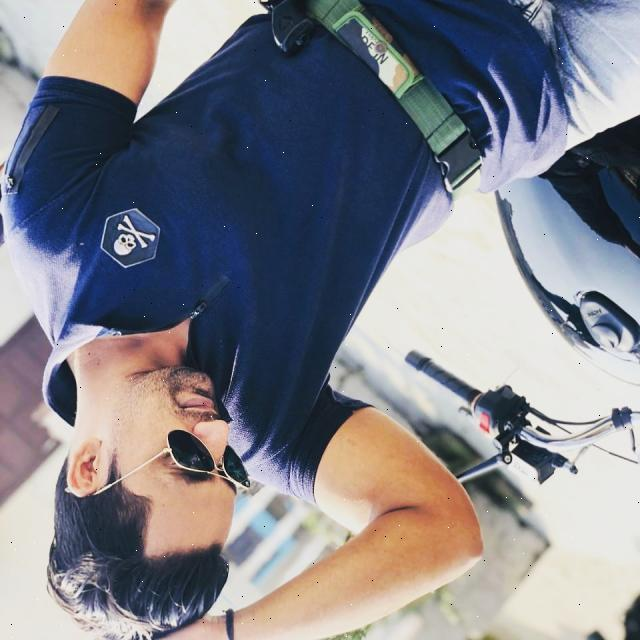gun: (245, 0, 333, 71)
